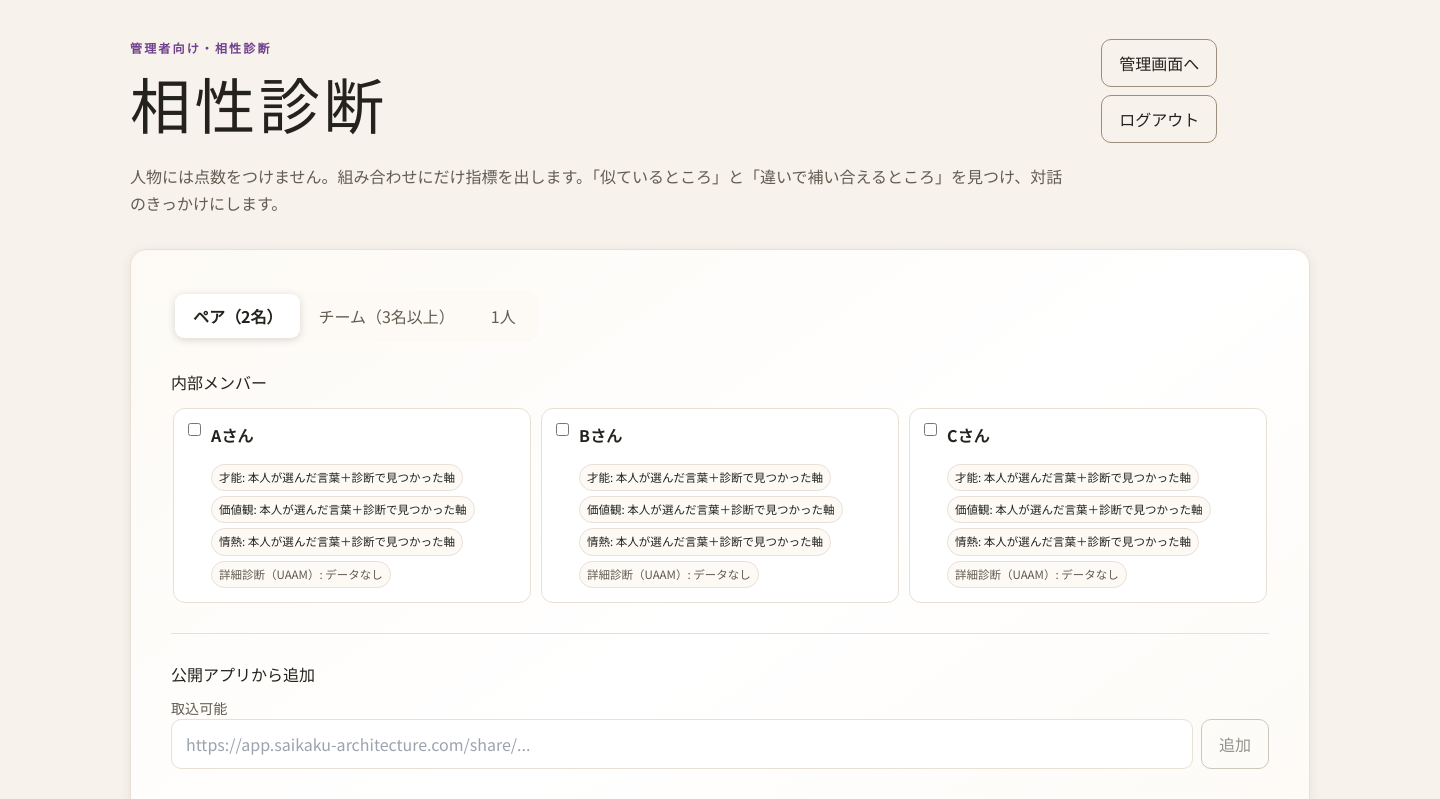
Test case: CompatScreen › uses compat-recommend, never compat-analyze, when running 1-person mode
The width and height of the screenshot is (1440, 799).
Check: the text "Aさん" is shown, box [211,423,253,447]
Click the button "1人" at coordinates (503, 316), box [473,294,534,338]
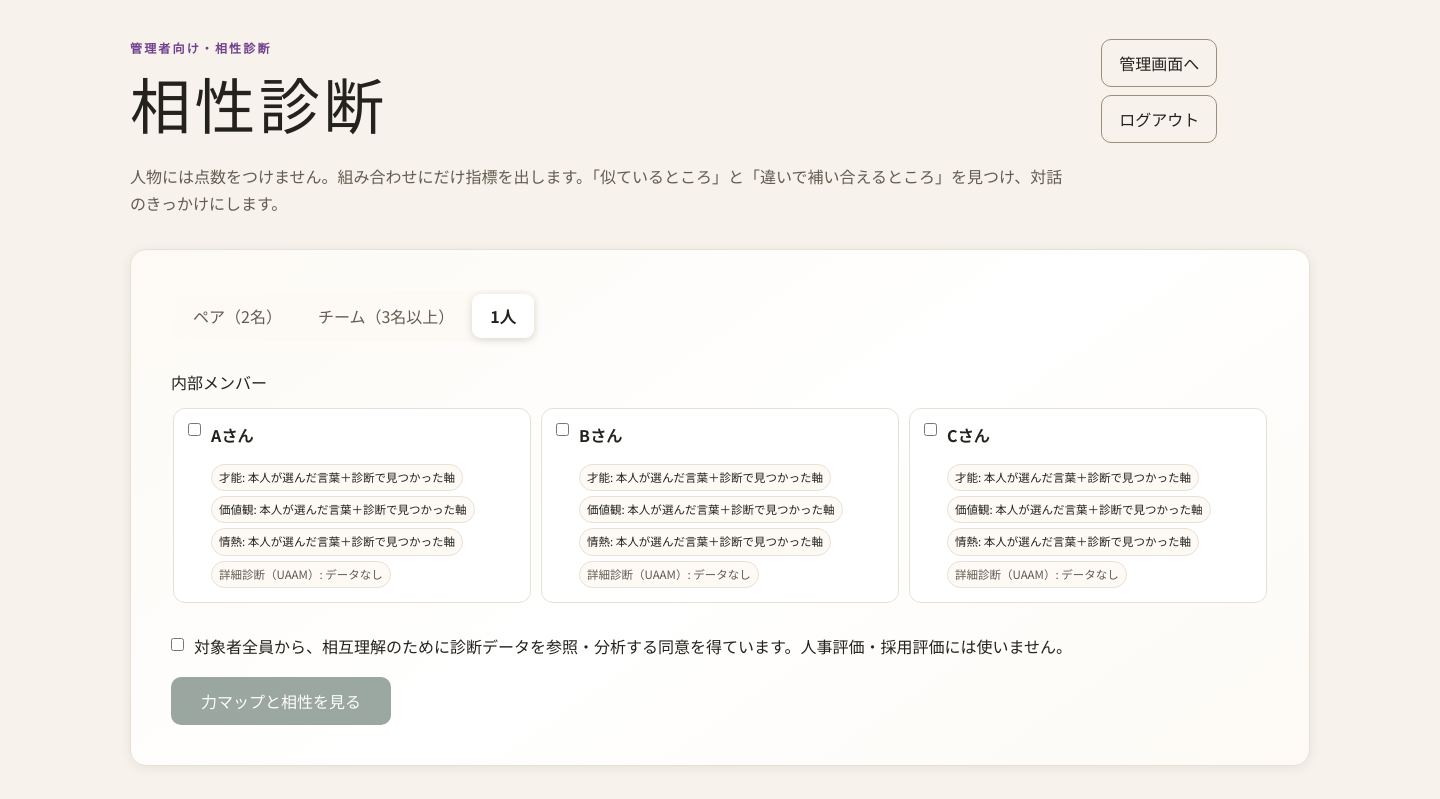
Click the 1st checkbox at coordinates (194, 430), box [188,423,201,436]
(page scrolled)
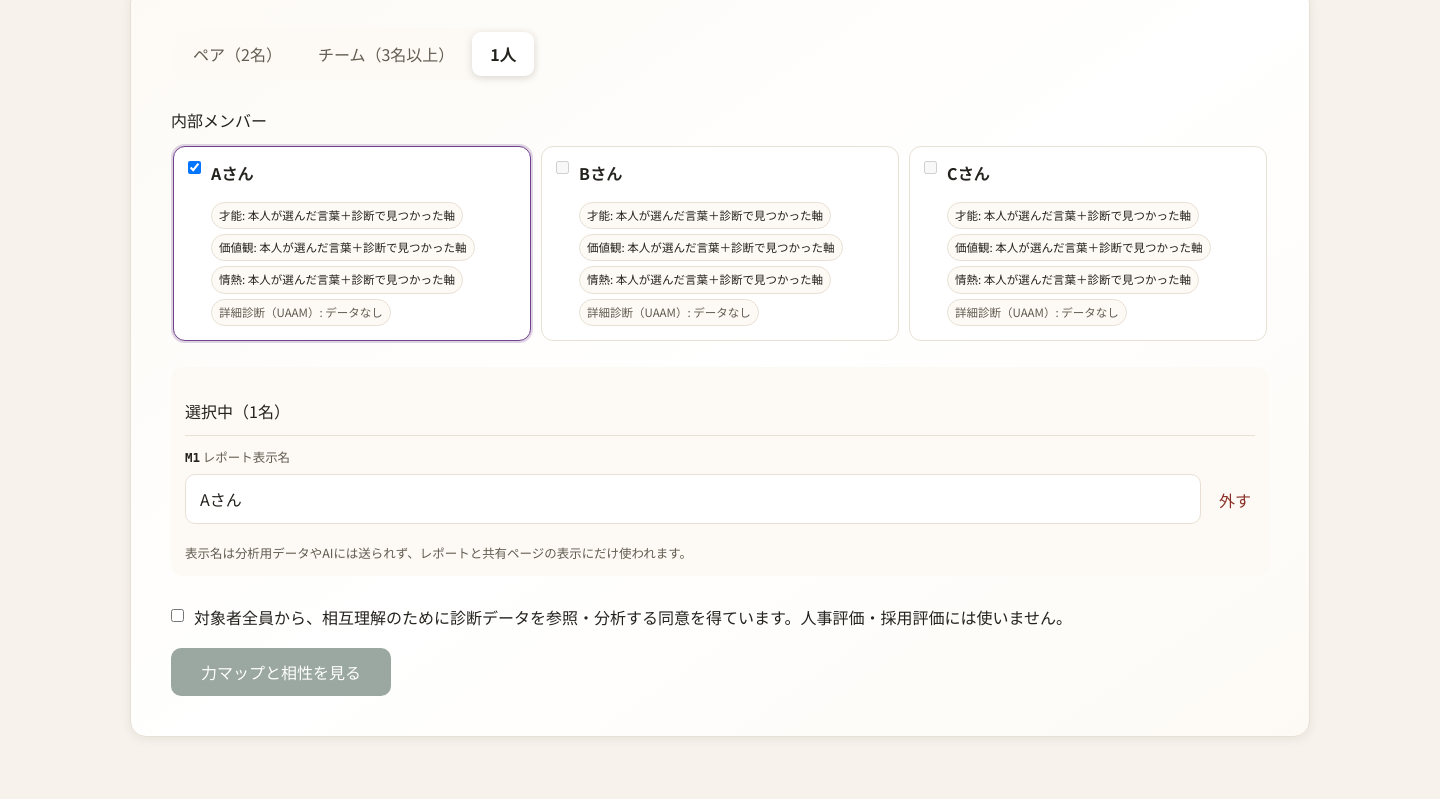
Click the checkbox labelled "対象者全員から、相互理解のために診断データを参照・分析する同意を得ています。人事評価・採用評価には使いません。" at coordinates (178, 615), box [171,609,184,622]
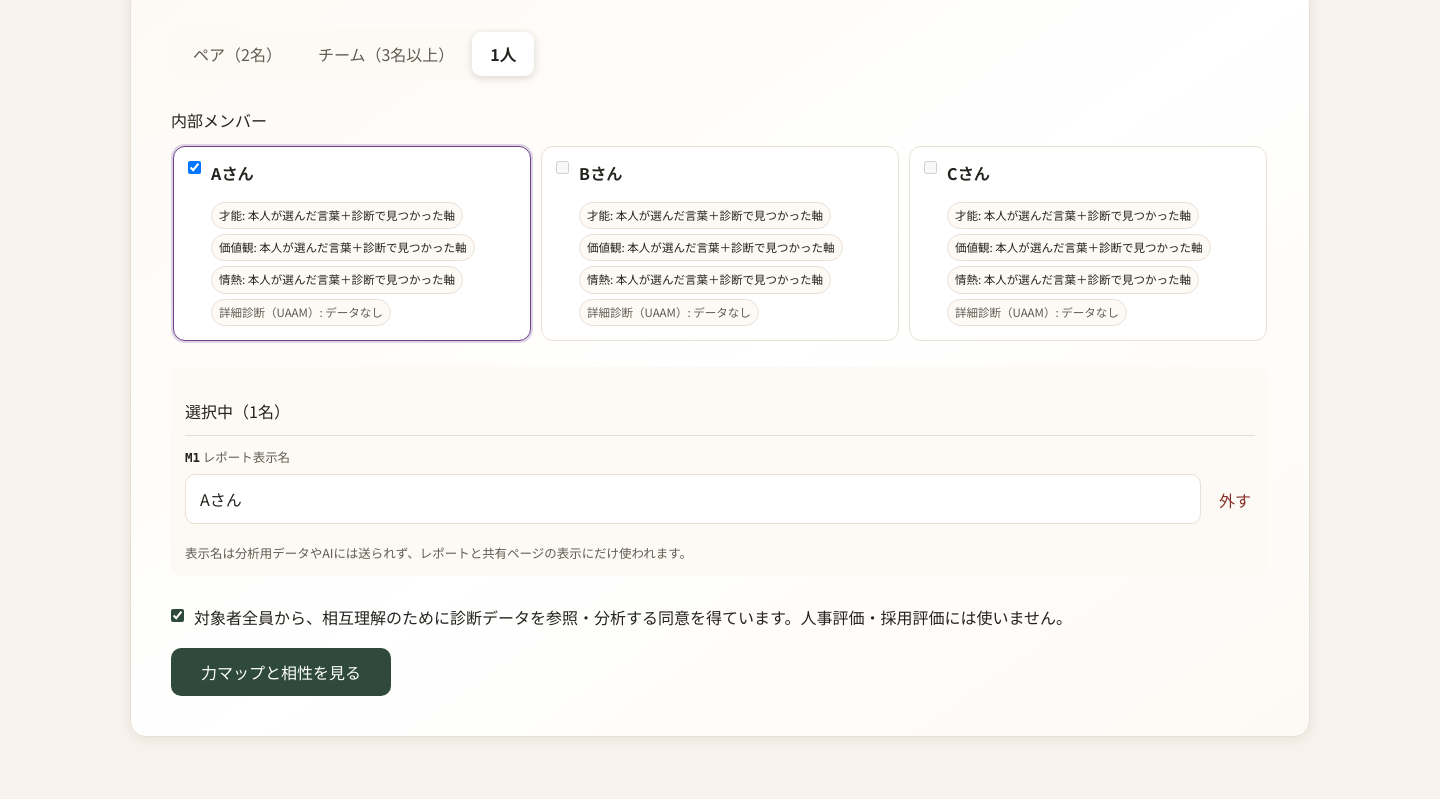
Click the button "力マップと相性を見る" at coordinates (281, 672), box [171,648,391,696]
(page scrolled)
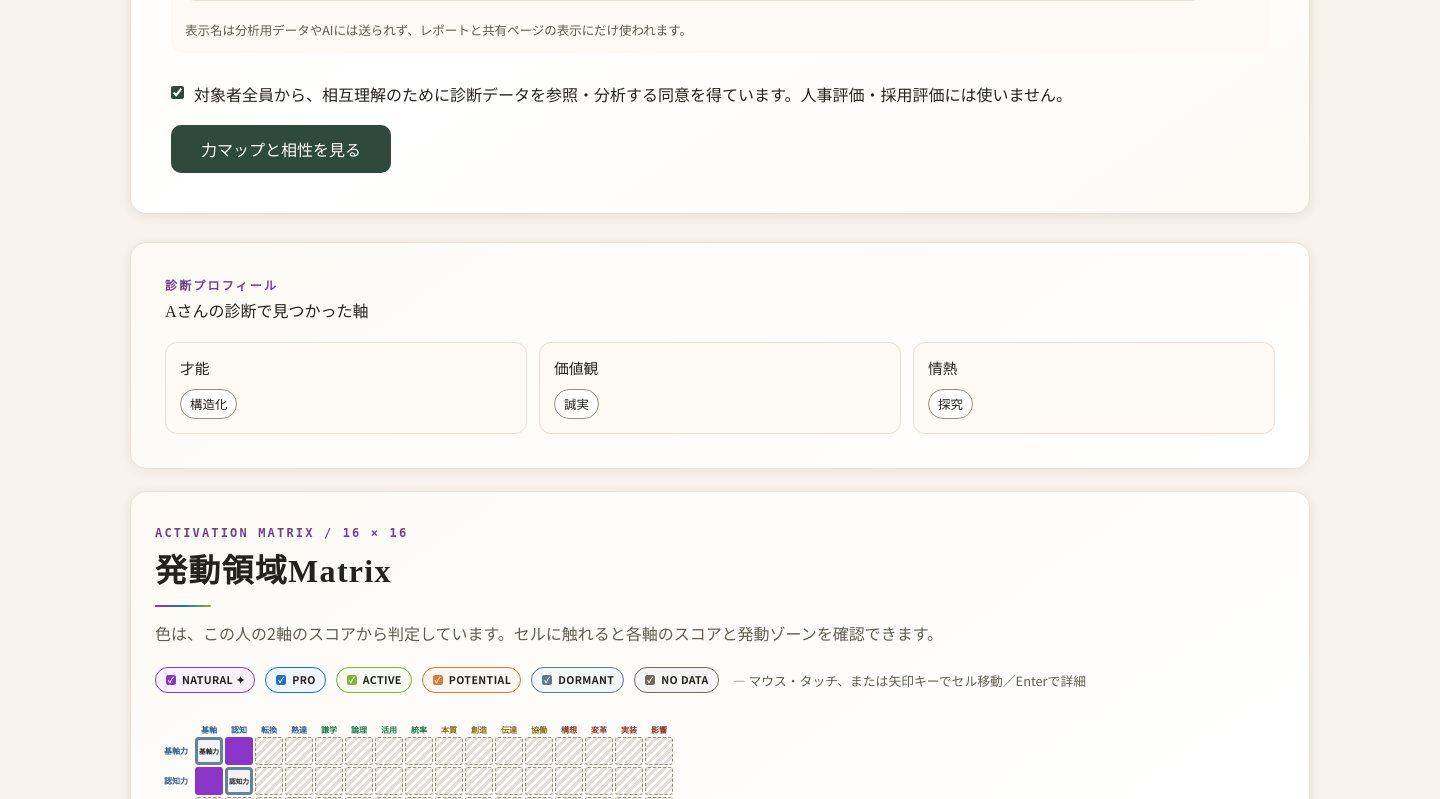
Check: the heading "公開アプリから追加" is not shown
Check: the heading "発動領域Matrix" is shown, box [155,553,392,589]
Check: the text "構造化" is shown, box [180,389,237,419]
